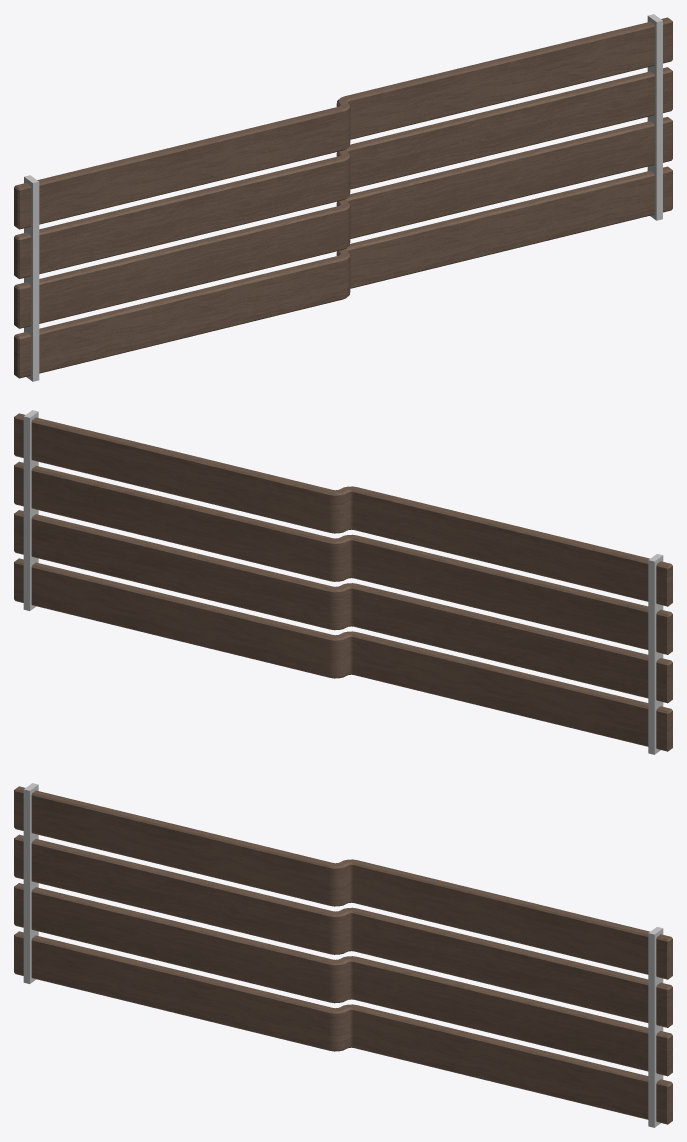
Rendered from D_CafePartition_001_4x1.fbx.
3 views of the same model, one above another, from view 1: azimuth 30°, elevation 25°; view 2: azimuth 150°, elevation 25°; view 3: azimuth 330°, elevation 25° (orthographic). The views are drawn at different scales.
Parts seen in each view (by area): view 1: D_CafePartition_001_4x1; view 2: D_CafePartition_001_4x1; view 3: D_CafePartition_001_4x1.
Part boxes in pixels (<box>): D_CafePartition_001_4x1: <box>14,14,672,381</box>; D_CafePartition_001_4x1: <box>14,410,672,754</box>; D_CafePartition_001_4x1: <box>14,783,672,1127</box>.
Size of the model in its own units: 4.2 by 1.2 by 0.198.
